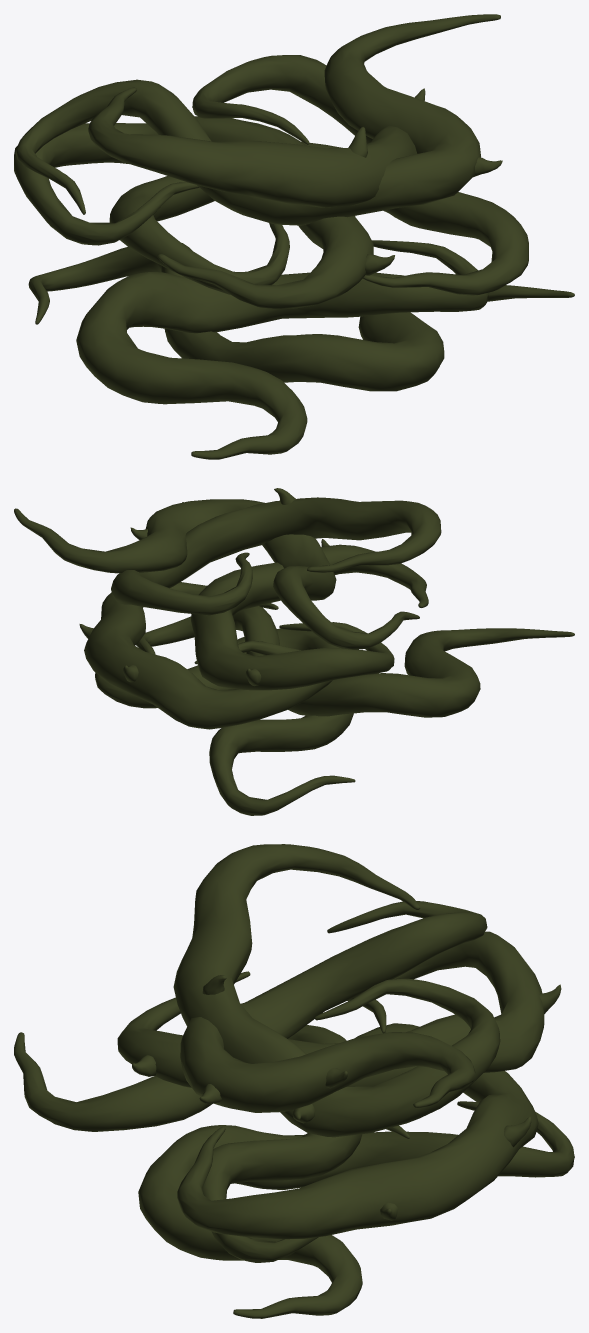
Rendered from Dev_Dark_Climber_Roots_chest.fbx.
3 renders of one model, top to bottom at view 1: azimuth 30°, elevation 25°; view 2: azimuth 150°, elevation 25°; view 3: azimuth 270°, elevation 25°, orthographic. The views are drawn at different scales.
Parts seen in each view (by area): view 1: Dark_Climber_Roots_chest; view 2: Dark_Climber_Roots_chest; view 3: Dark_Climber_Roots_chest.
Boxes of the visible parts, <box> form: Dark_Climber_Roots_chest: <box>14,14,574,459</box>; Dark_Climber_Roots_chest: <box>14,488,574,815</box>; Dark_Climber_Roots_chest: <box>14,844,574,1318</box>.
Size of the model in its own units: 134 by 72.14 by 126.
